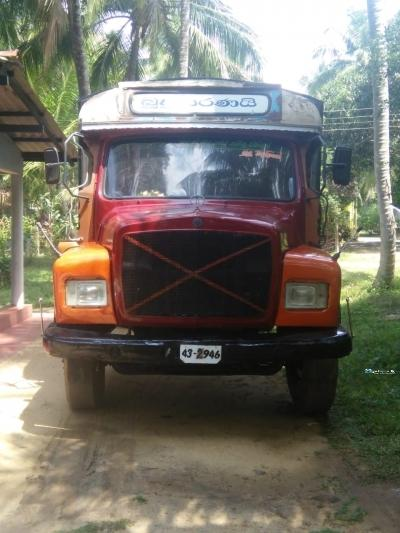truck: (42, 76, 354, 413)
